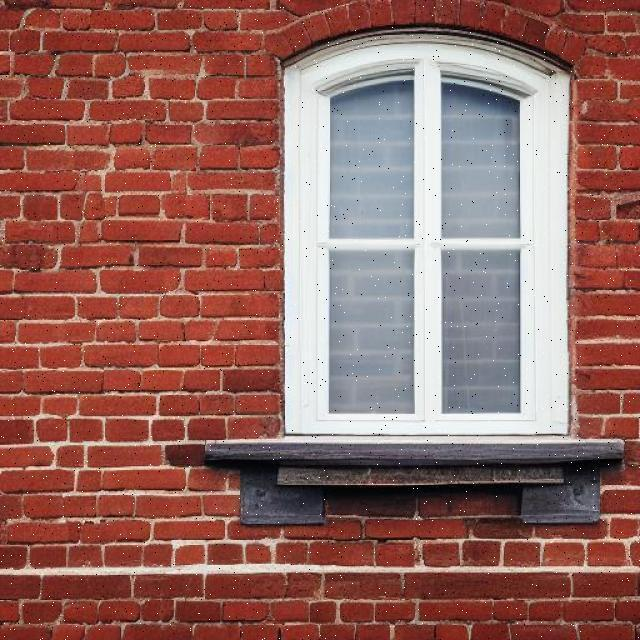window: (283, 26, 571, 434)
